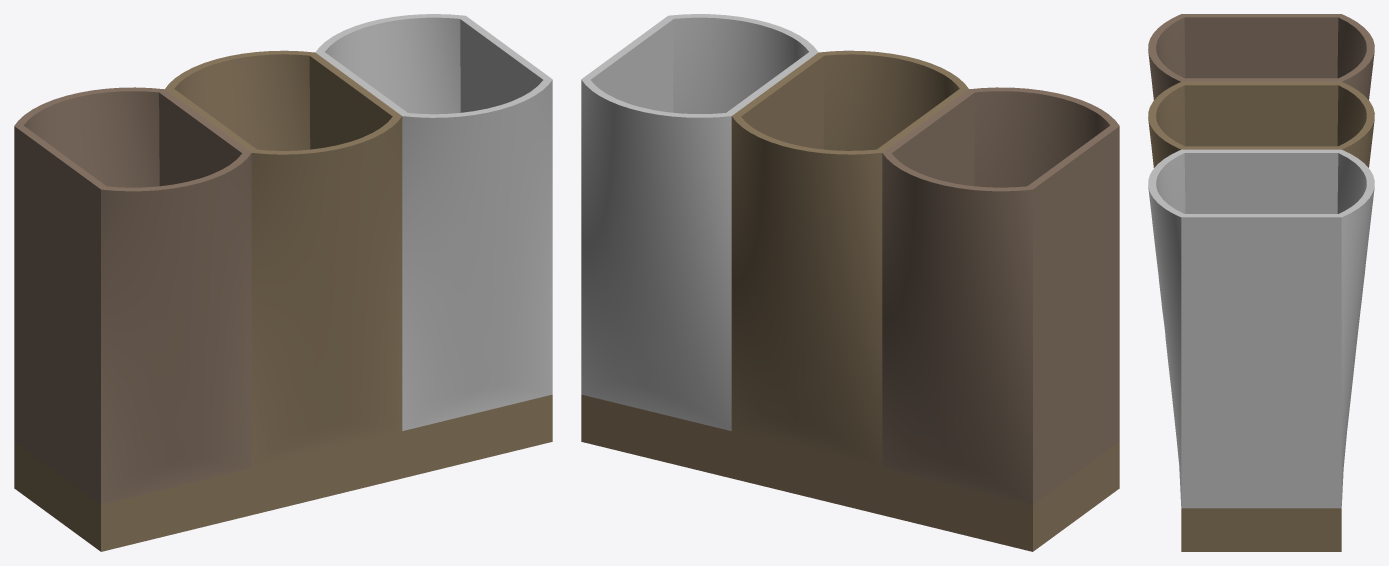
The model's file is example5.glb.
3 renders of one model, left to right at view 1: azimuth 30°, elevation 25°; view 2: azimuth 150°, elevation 25°; view 3: azimuth 270°, elevation 25°, orthographic. The views are drawn at different scales.
Visible parts, largest first — view 1: example5, example5001, example5002, example5003; view 2: example5, example5001, example5002, example5003; view 3: example5002, example5001, example5, example5003.
Part boxes in pixels (bbox=[...]): example5: bbox=[14, 87, 251, 504]; example5001: bbox=[165, 50, 402, 467]; example5002: bbox=[315, 14, 552, 430]; example5003: bbox=[14, 394, 552, 551]; example5: bbox=[882, 87, 1119, 504]; example5001: bbox=[731, 50, 968, 467]; example5002: bbox=[581, 14, 818, 430]; example5003: bbox=[581, 394, 1119, 551]; example5002: bbox=[1148, 149, 1374, 508]; example5001: bbox=[1148, 81, 1374, 167]; example5: bbox=[1148, 14, 1374, 99]; example5003: bbox=[1181, 508, 1341, 551].
Bounding box in the file's own units: 0.9 × 0.71 × 0.4238.
